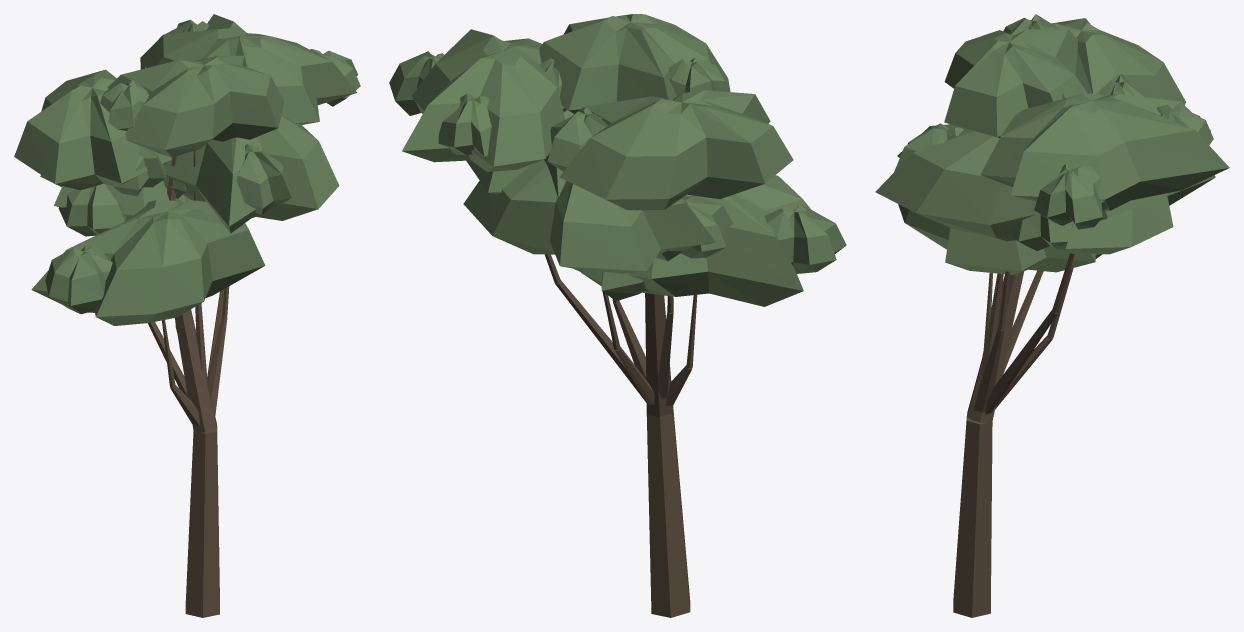
The model's file is field-tree-leaning-high.glb.
3 renders of one model, left to right at view 1: azimuth 30°, elevation 25°; view 2: azimuth 150°, elevation 25°; view 3: azimuth 270°, elevation 25°, orthographic. The views are drawn at different scales.
Parts seen in each view (by area): view 1: field-tree-leaning-high / crown, field-tree-leaning-high / trunk; view 2: field-tree-leaning-high / crown, field-tree-leaning-high / trunk; view 3: field-tree-leaning-high / crown, field-tree-leaning-high / trunk.
Boxes of the visible parts, left/top/right/bottom form: field-tree-leaning-high / crown: left=14, top=14, right=360, bottom=325; field-tree-leaning-high / trunk: left=148, top=150, right=229, bottom=617; field-tree-leaning-high / crown: left=389, top=14, right=846, bottom=306; field-tree-leaning-high / trunk: left=544, top=254, right=697, bottom=617; field-tree-leaning-high / crown: left=875, top=14, right=1229, bottom=274; field-tree-leaning-high / trunk: left=953, top=253, right=1074, bottom=617.
Bounding box in the file's own units: 5.72 × 8.24 × 4.57.
